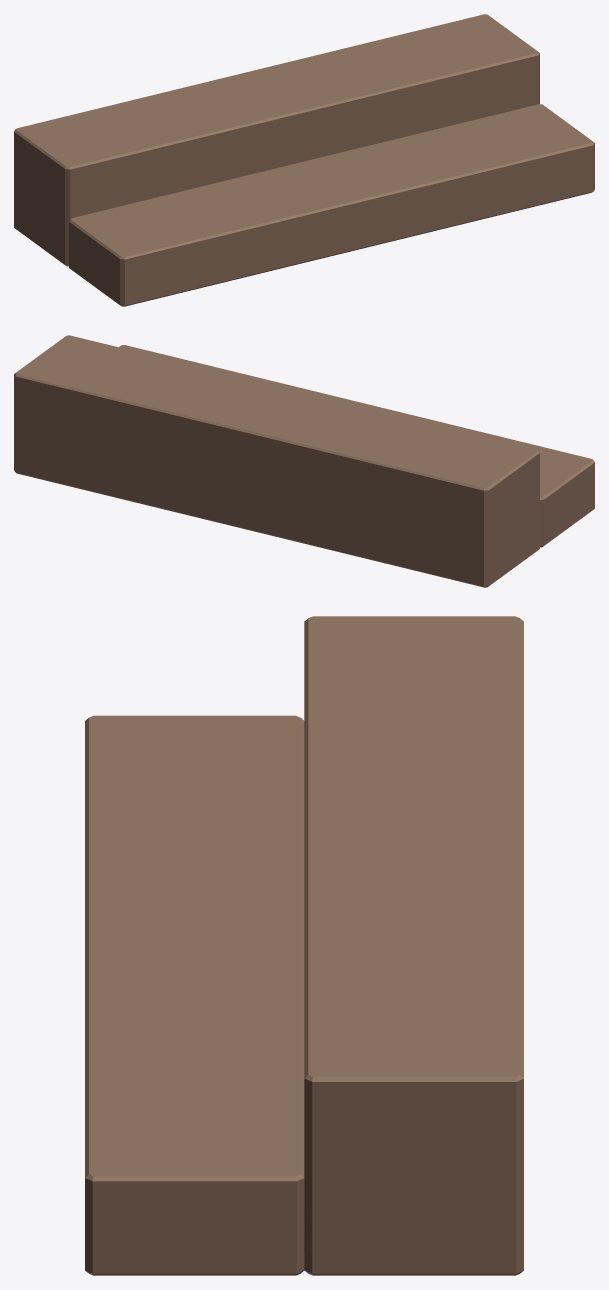
File: stair-short.glb
3 views of the same model, one above another, from view 1: azimuth 30°, elevation 25°; view 2: azimuth 150°, elevation 25°; view 3: azimuth 270°, elevation 25° (orthographic). The views are drawn at different scales.
Visible parts, largest first — view 1: stair-short__body; view 2: stair-short__body; view 3: stair-short__body.
Part boxes in pixels (x1=…): stair-short__body: x1=14, y1=14, x2=594, y2=306; stair-short__body: x1=14, y1=335, x2=594, y2=587; stair-short__body: x1=85, y1=616, x2=523, y2=1275.
Bounding box in the file's own units: 2 × 0.4 × 0.8.
